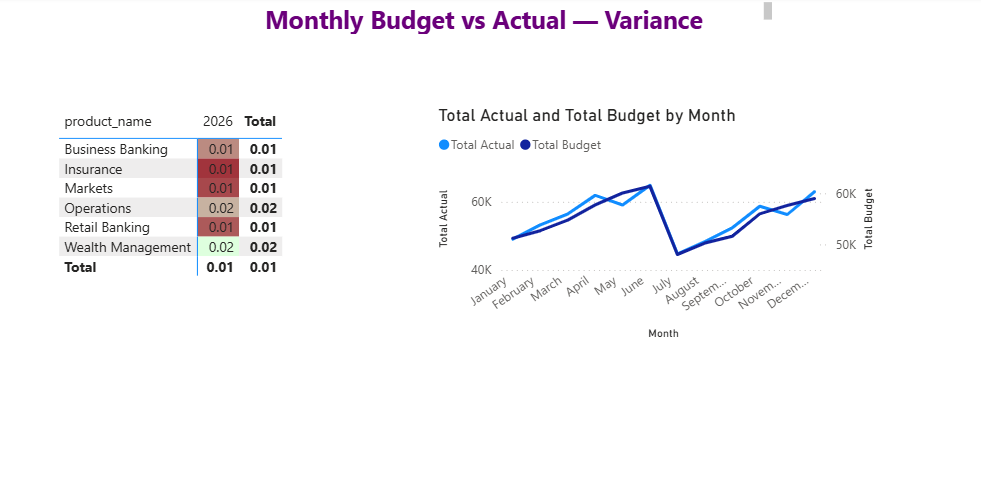

Layout of this report page (visuals, bound fields, positions):
{"tool":"powerbi","page":{"name":"Monthly Variance","canvas":[1280,720],"ordinal":1},"visuals":[{"type":"textbox","box":[271.4,0,502.9,40.9],"z":0},{"type":"pivotTable","fields":{"Rows":["dim_product.product_name"],"Columns":["dim_month.month_short.Variation.Date Hierarchy.Year","dim_month.month_short.Variation.Date Hierarchy.Quarter","dim_month.month_short.Variation.Date Hierarchy.Month","dim_month.month_short.Variation.Date Hierarchy.Day"],"Values":["Measures (2).Variance %"]},"box":[71,105,338.5,221.8],"z":1},{"type":"lineChart","fields":{"Category":["dim_month.month_short.Variation.Date Hierarchy.Month","dim_month.month_short.Variation.Date Hierarchy.Day"],"Y":["Measures (2).Total Actual"],"Y2":["Measures (2).Total Budget"]},"box":[439.6,105,433.8,232.5],"z":2}]}

Visuals, with their boxes on the page's 1280x720 design canvas (x1, y1, x2, y2). These are canvas units, not pixel positions in the 981x504 screenshot, which may show the page scaled, cropped or inside an application window:
textbox: <box>271,0,774,41</box>
pivotTable - dim_product.product_name x dim_month.month_short.Variation.Date Hierarchy.Year: <box>71,105,410,327</box>
lineChart - dim_month.month_short.Variation.Date Hierarchy.Month x dim_month.month_short.Variation.Date Hierarchy.Day: <box>440,105,873,338</box>
